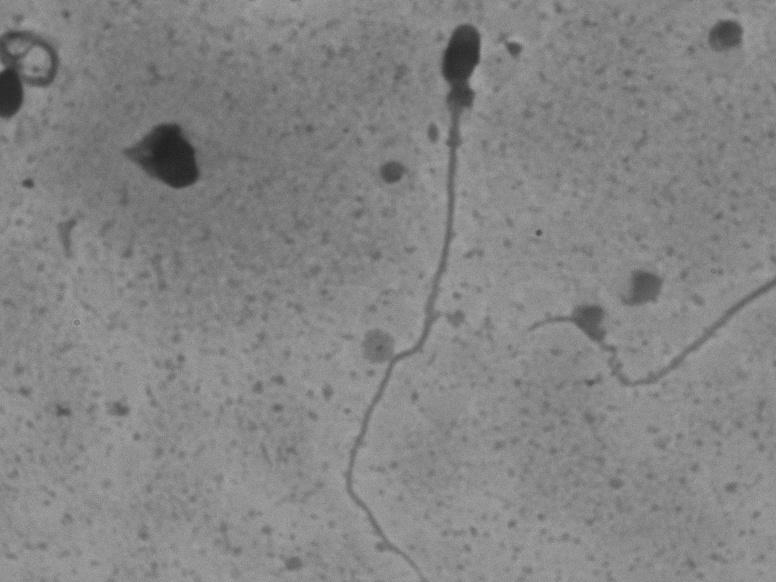Abnormal: (322, 13, 503, 568)
